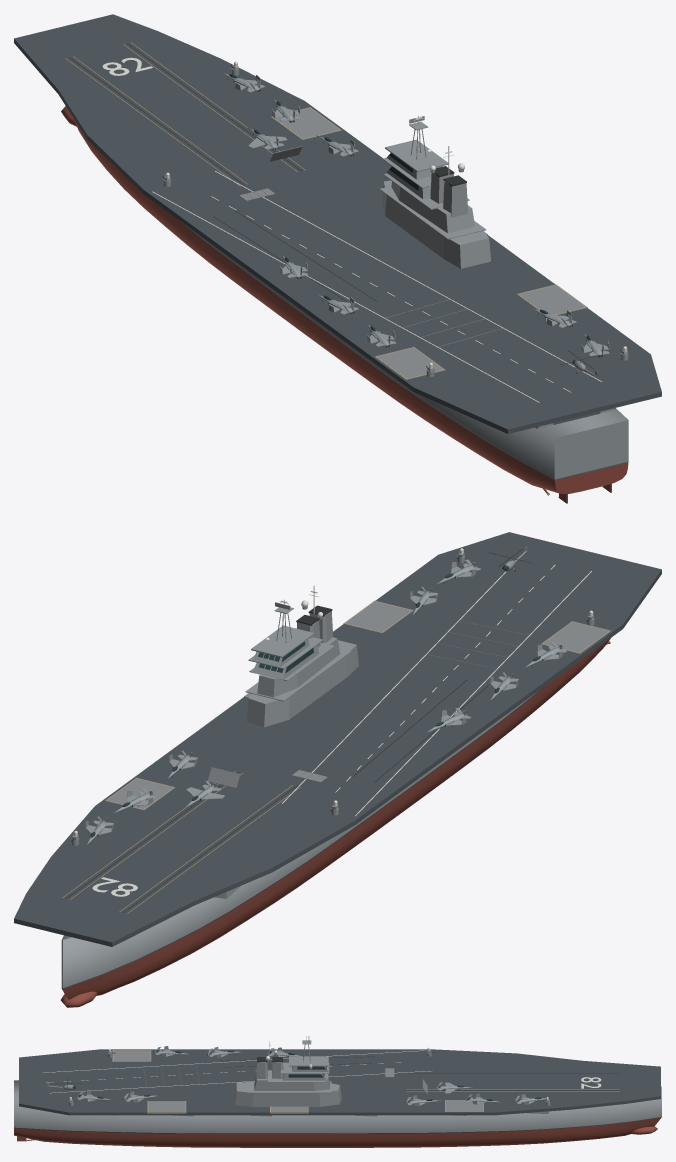
File: carrier-low.glb
The picture shows the model from 3 angles, top to bottom: view 1: azimuth 30°, elevation 25°; view 2: azimuth 150°, elevation 25°; view 3: azimuth 270°, elevation 25°; orthographic projection. The views are drawn at different scales.
Visible parts, largest first — view 1: deck, hull, bottom, metal, aircraft, white, black, ochre, stripe; view 2: deck, hull, bottom, metal, aircraft, white, black, ochre, window, stripe; view 3: deck, hull, bottom, metal, aircraft, white, stripe, black, ochre, window.
Boxes of the visible parts, box(x1,y1,x2,y2) form: deck: box(14, 14, 661, 433); hull: box(163, 65, 628, 479); bottom: box(61, 106, 628, 503); metal: box(227, 78, 603, 379); aircraft: box(220, 72, 609, 356); white: box(102, 57, 627, 402); black: box(69, 43, 621, 369); ochre: box(65, 42, 586, 378); stripe: box(177, 219, 628, 480); deck: box(14, 532, 661, 946); hull: box(61, 553, 594, 988); bottom: box(60, 638, 610, 1007); metal: box(90, 546, 610, 842); aircraft: box(85, 559, 566, 844); white: box(73, 548, 593, 896); black: box(66, 548, 589, 912); ochre: box(62, 601, 609, 913); window: box(90, 565, 540, 837); stripe: box(61, 685, 546, 989); deck: box(19, 1049, 660, 1115); hull: box(14, 1040, 661, 1133); bottom: box(14, 1117, 660, 1147); metal: box(47, 1036, 543, 1113); aircraft: box(77, 1046, 549, 1105); white: box(43, 1036, 601, 1100); stripe: box(14, 1117, 661, 1133); black: box(48, 1052, 619, 1103); ochre: box(113, 1050, 619, 1112); window: box(72, 1050, 541, 1100).
Bounding box in the file's own units: 77.2 × 68.3 × 333.
